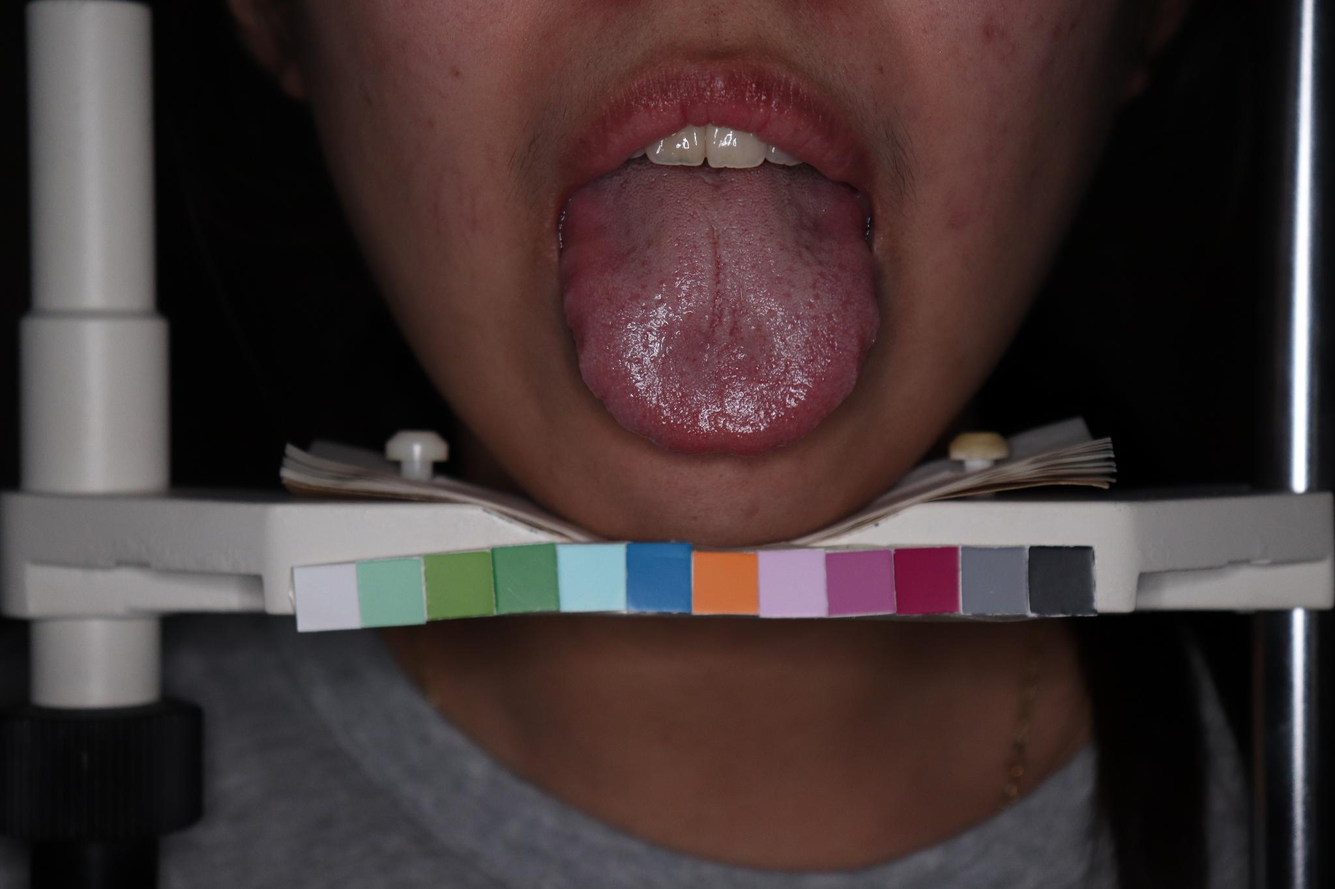baitaishe: (557, 169, 883, 457)
chihenshe: (559, 247, 594, 378), (850, 259, 883, 388)
pangdashe: (557, 168, 883, 457)
